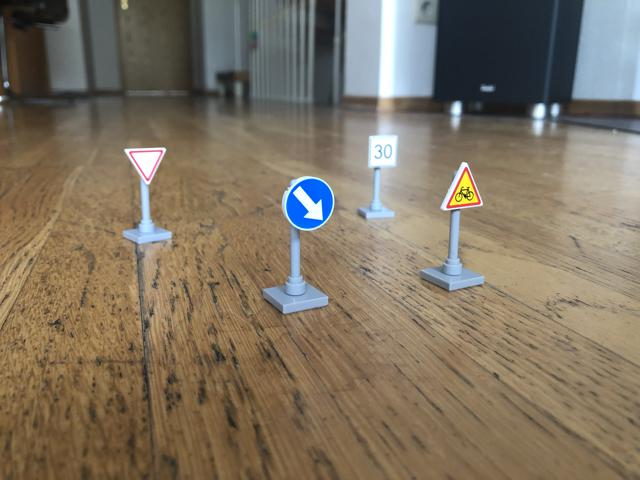radfahrer: (440, 162, 483, 210)
rechts halten: (284, 176, 335, 234)
tempolimit 30: (366, 134, 401, 168)
vorfahrt gewähren: (125, 146, 168, 185)
